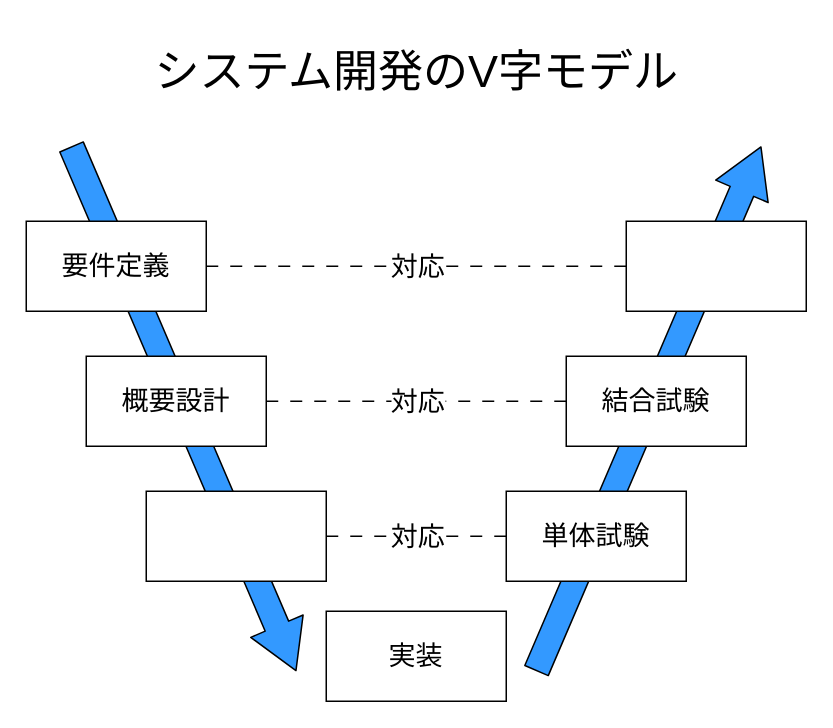
Some shapes in this 833 by 728 pixel diagram are drawn without their labels. Here are the shapes that lost their labels. From the top down, the centre of each, then its label:
At point 715,265: "総合試験".
At point 235,535: "詳細設計".
